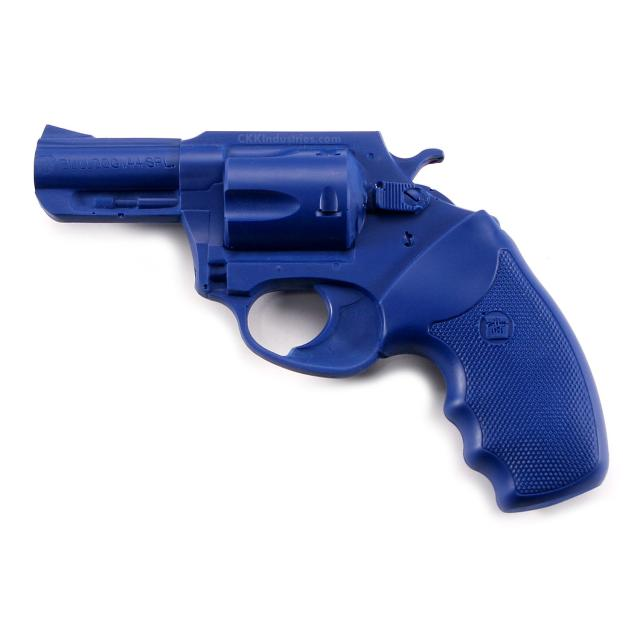Gun: (26, 89, 622, 559)
